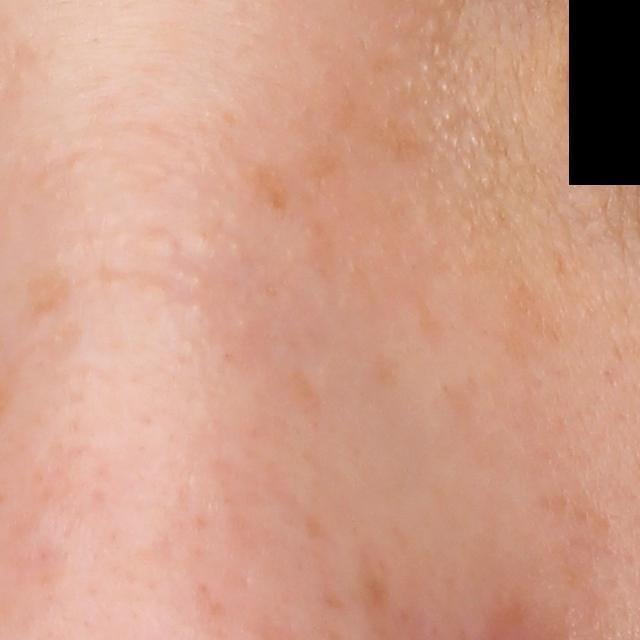melasma: (499, 284, 569, 374), (254, 163, 295, 224), (383, 112, 425, 169), (19, 269, 74, 311), (290, 375, 320, 430)
